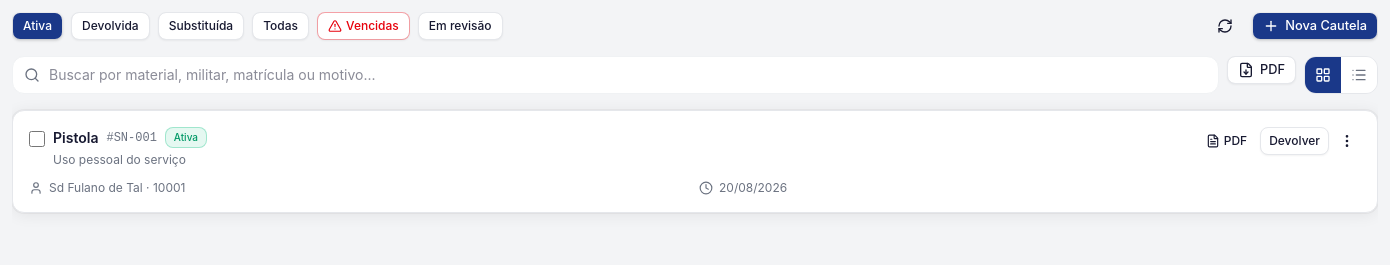
Test: CautelasClient — aba 'Em revisão' › filtra só as cautelas com assinatura pendente; aba 'Ativa' mostra só as completas
Check: the number of elements with test id "cautela-row" is 1, box [12,110,1378,213]
Check: the text "Ativa" is shown, box [165,127,207,148]
Click the button "Em revisão": (460, 26) [418,12,503,40]
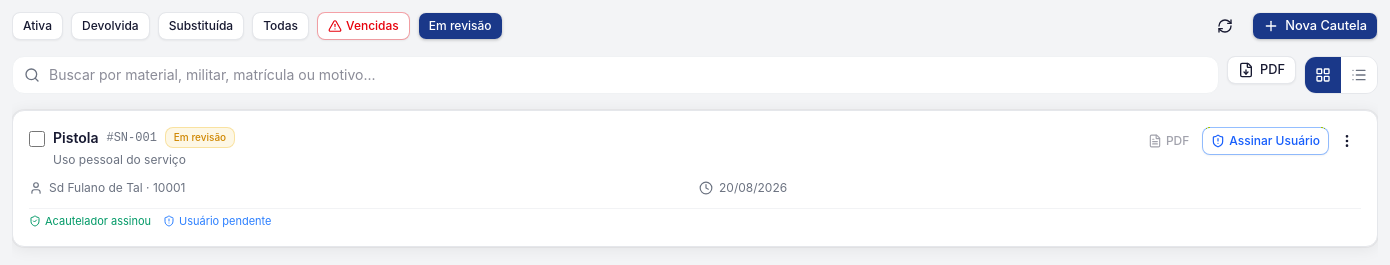
Check: the number of elements with test id "cautela-row" is 1, box [12,110,1378,246]
Check: the text "Em revisão" is shown, box [165,127,235,148]
Click the button "Ativa": (38, 26) [12,12,63,40]
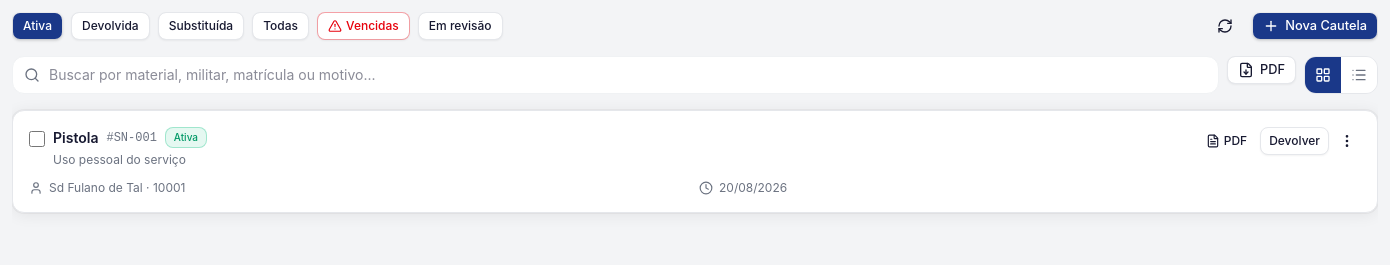
Check: the number of elements with test id "cautela-row" is 1, box [12,110,1378,213]
Check: the text "Ativa" is shown, box [165,127,207,148]
